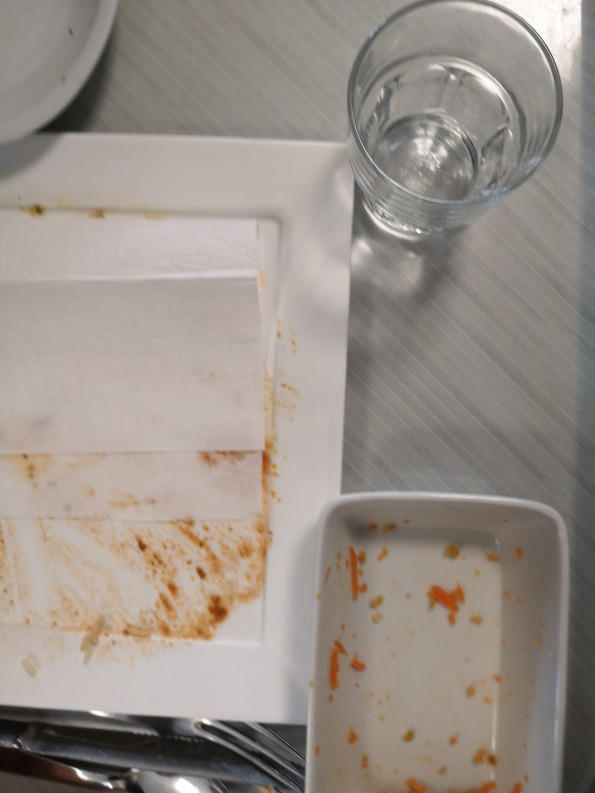cup: (332, 1, 567, 260)
cutlery: (1, 723, 307, 790)
trash: (14, 204, 272, 525)
